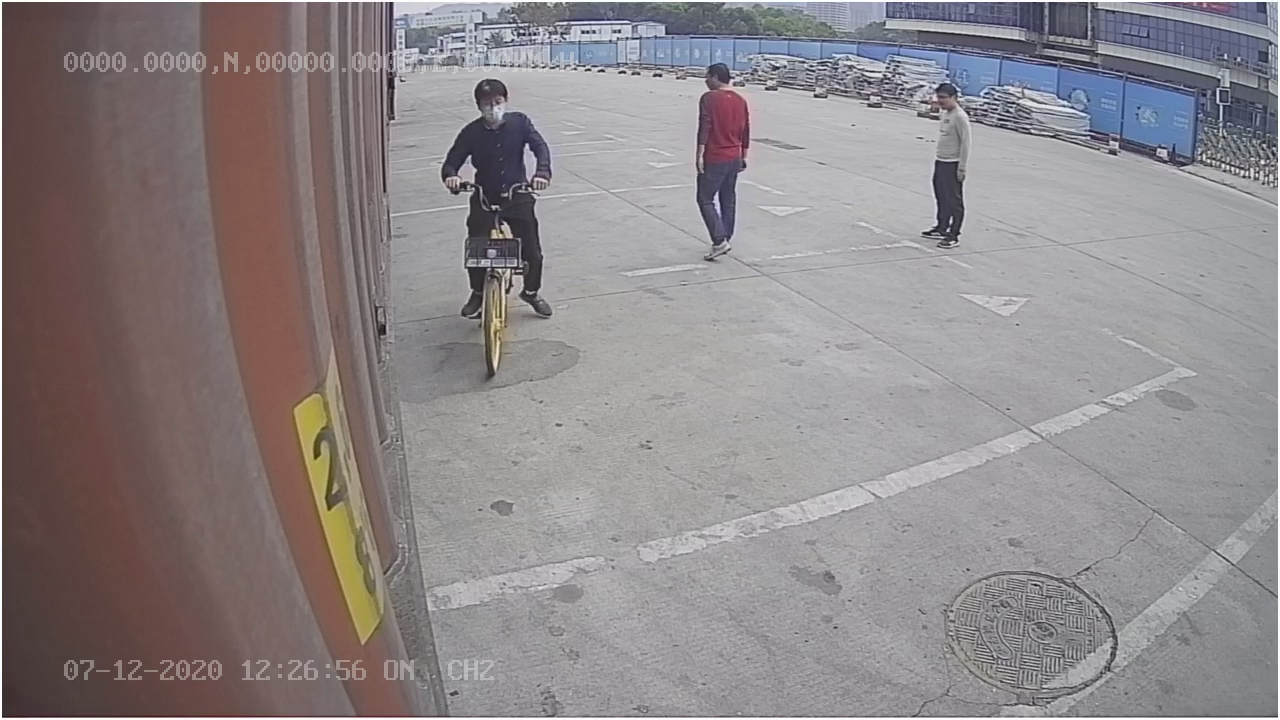person: (688, 58, 753, 260)
